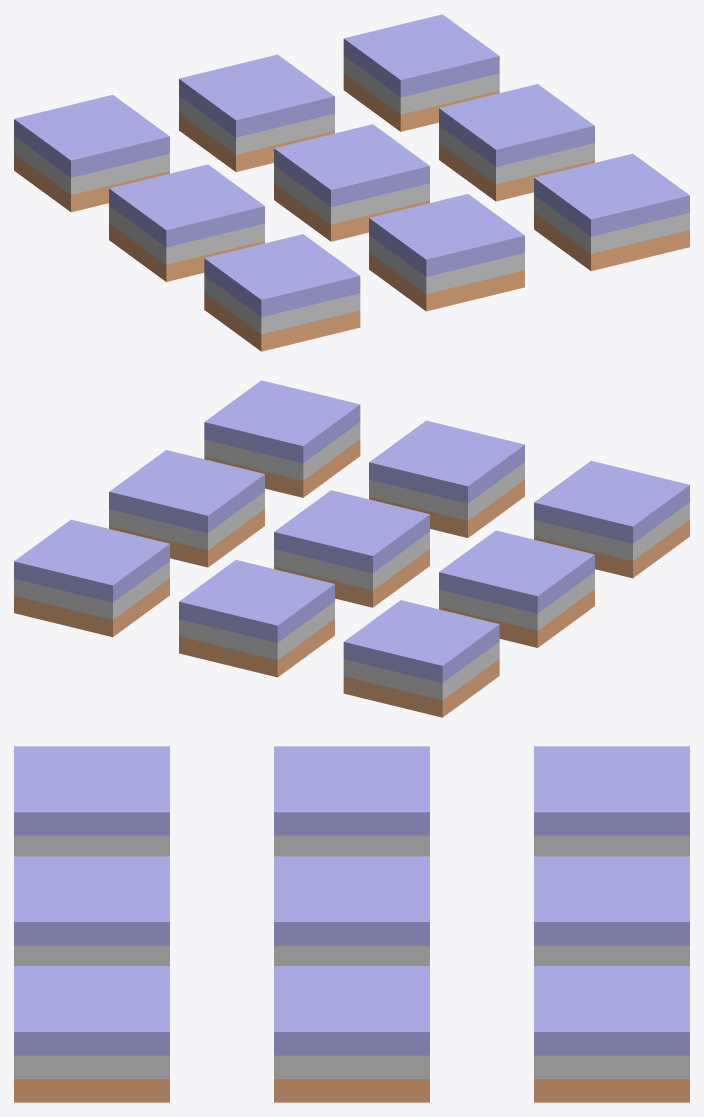
File: board.glb
3 views of the same model, one above another, from view 1: azimuth 30°, elevation 25°; view 2: azimuth 150°, elevation 25°; view 3: azimuth 270°, elevation 25° (orthographic). The views are drawn at different scales.
Visible parts, largest first — view 1: Copper_Net1_Contour0 (×3), Copper_Net1_Contour2 (×3), Copper_Net1_Contour1 (×3), Copper_Net1_Contour8 (×3), Copper_Net1_Contour3 (×3), Copper_Net1_Contour4 (×3), Copper_Net1_Contour7 (×3), Copper_Net1_Contour5 (×3), Copper_Net1_Contour6 (×3); view 2: Copper_Net1_Contour6 (×3), Copper_Net1_Contour8 (×3), Copper_Net1_Contour7 (×3), Copper_Net1_Contour2 (×3), Copper_Net1_Contour3 (×3), Copper_Net1_Contour4 (×3), Copper_Net1_Contour1 (×3), Copper_Net1_Contour5 (×3), Copper_Net1_Contour0 (×3); view 3: Copper_Net1_Contour2 (×3), Copper_Net1_Contour8 (×3), Copper_Net1_Contour5 (×3), Copper_Net1_Contour0 (×2), Copper_Net1_Contour3 (×2), Copper_Net1_Contour6 (×2), Copper_Net1_Contour7 (×2), Copper_Net1_Contour1 (×2), Copper_Net1_Contour4 (×2).
Part boxes in pixels (box(x1,y1,x2,y2)): Copper_Net1_Contour0 (×3): box(204, 234, 360, 351); Copper_Net1_Contour2 (×3): box(534, 153, 689, 271); Copper_Net1_Contour1 (×3): box(369, 194, 524, 311); Copper_Net1_Contour8 (×3): box(343, 14, 499, 131); Copper_Net1_Contour3 (×3): box(109, 164, 264, 281); Copper_Net1_Contour4 (×3): box(274, 124, 429, 241); Copper_Net1_Contour7 (×3): box(179, 54, 334, 171); Copper_Net1_Contour5 (×3): box(439, 84, 594, 201); Copper_Net1_Contour6 (×3): box(14, 94, 169, 212); Copper_Net1_Contour6 (×3): box(343, 600, 499, 717); Copper_Net1_Contour8 (×3): box(14, 519, 169, 637); Copper_Net1_Contour7 (×3): box(179, 560, 334, 677); Copper_Net1_Contour2 (×3): box(204, 380, 360, 497); Copper_Net1_Contour3 (×3): box(439, 530, 594, 647); Copper_Net1_Contour4 (×3): box(274, 490, 429, 607); Copper_Net1_Contour1 (×3): box(369, 420, 524, 537); Copper_Net1_Contour5 (×3): box(109, 450, 264, 567); Copper_Net1_Contour0 (×3): box(534, 460, 689, 578); Copper_Net1_Contour2 (×3): box(14, 966, 169, 1102); Copper_Net1_Contour8 (×3): box(534, 966, 689, 1102); Copper_Net1_Contour5 (×3): box(274, 966, 429, 1102); Copper_Net1_Contour0 (×2): box(14, 746, 169, 856); Copper_Net1_Contour3 (×2): box(274, 746, 429, 856); Copper_Net1_Contour6 (×2): box(534, 746, 689, 856); Copper_Net1_Contour7 (×2): box(534, 856, 689, 965); Copper_Net1_Contour1 (×2): box(14, 856, 169, 965); Copper_Net1_Contour4 (×2): box(274, 856, 429, 965).
Bounding box in the file's own units: 2.6e-05 × 3e-06 × 2.6e-05.
